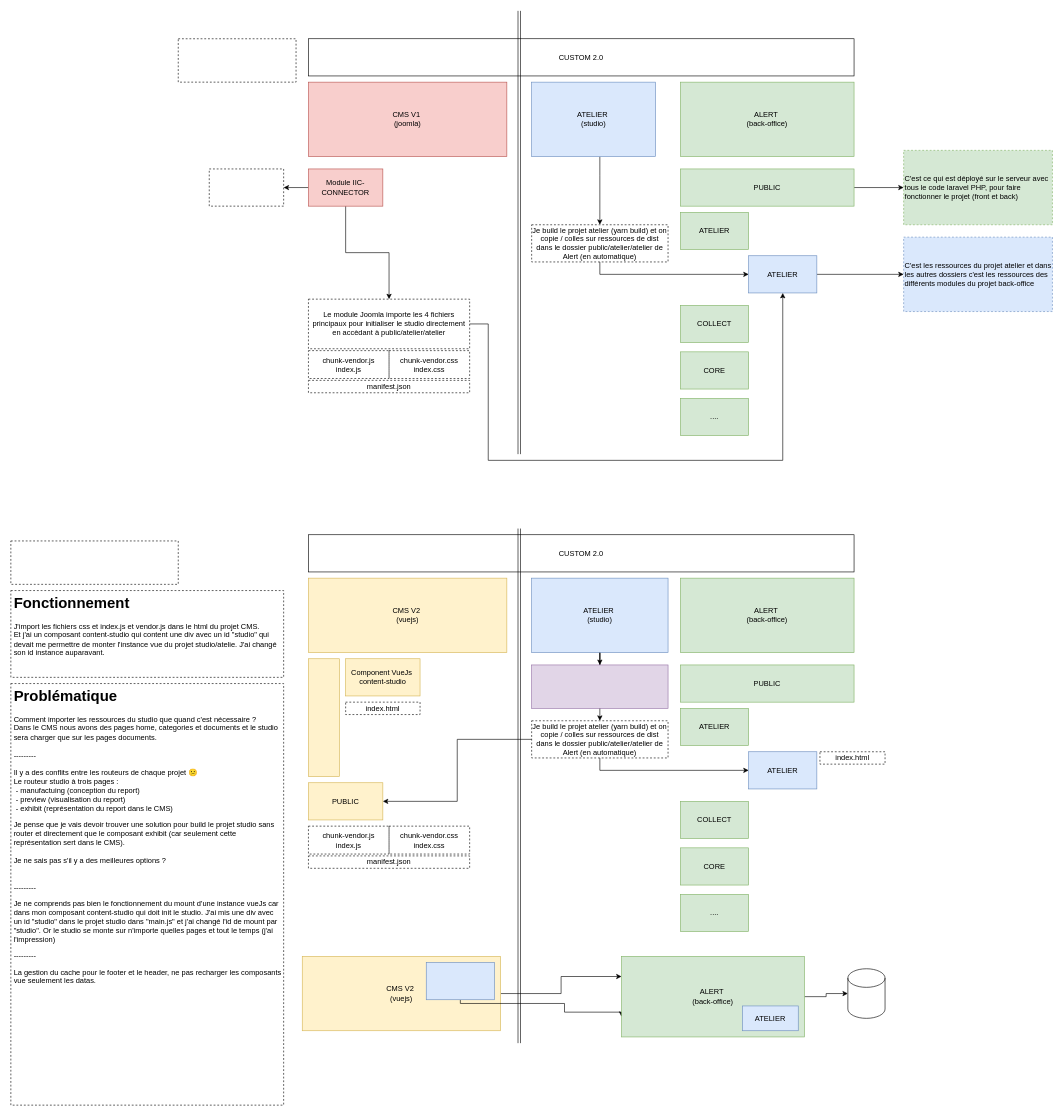
This 1063x1116 diagram has some shape labels left out. Here are the shapes that lost their labels. From the top down, the centre of each, then its label:
At point 237,60: "Actuellement Fonctionnement entre V2 et V1".
At point 246,187: "On décide quand afficher ce module ou pas".
At point 94,562: "Objectif Fonctionnement entre V2 studio et le CMS V2".
At point 599,686: "Faire la séparation entre un build CMS et un build alll".
At point 323,717: "SRC".
At point 460,981: "Studio".
